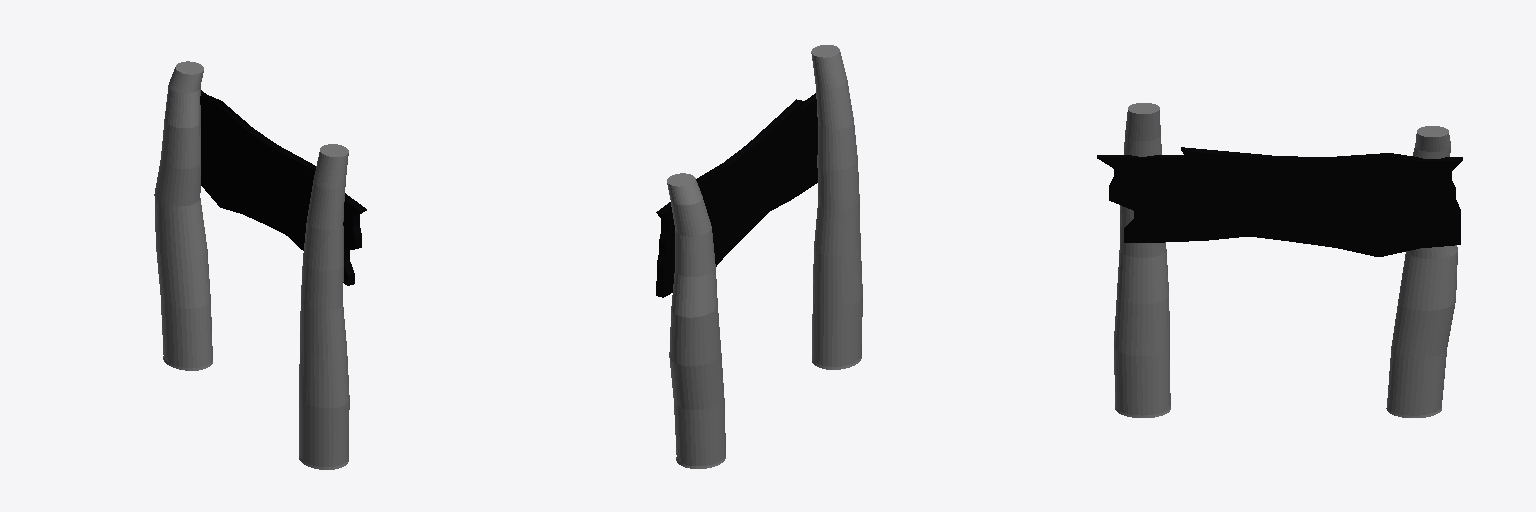
Rendered from singboard.obj.
3 renders of one model, left to right at view 1: azimuth 30°, elevation 25°; view 2: azimuth 150°, elevation 25°; view 3: azimuth 270°, elevation 25°, orthographic.
Visible parts, largest first — view 1: Cylinder; view 2: Cylinder; view 3: Cylinder.
Part boxes in pixels (left/top/right/bottom): Cylinder: left=154, top=61, right=366, bottom=469; Cylinder: left=656, top=45, right=862, bottom=468; Cylinder: left=1097, top=103, right=1462, bottom=417.
Bounding box in the file's own units: 0.2011 × 1.31 × 1.42.